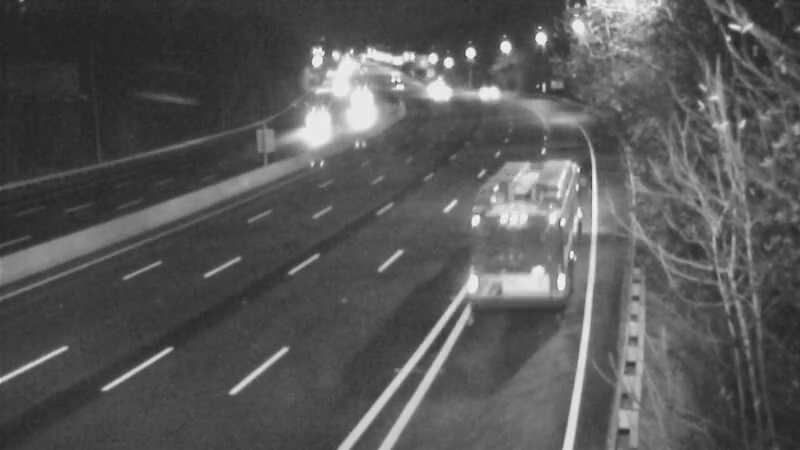vehicle: (467, 177, 547, 257), (369, 50, 419, 100), (406, 55, 456, 105), (405, 65, 455, 115), (465, 68, 515, 118), (412, 66, 462, 116), (287, 92, 337, 142), (333, 78, 383, 128), (311, 59, 361, 109)
